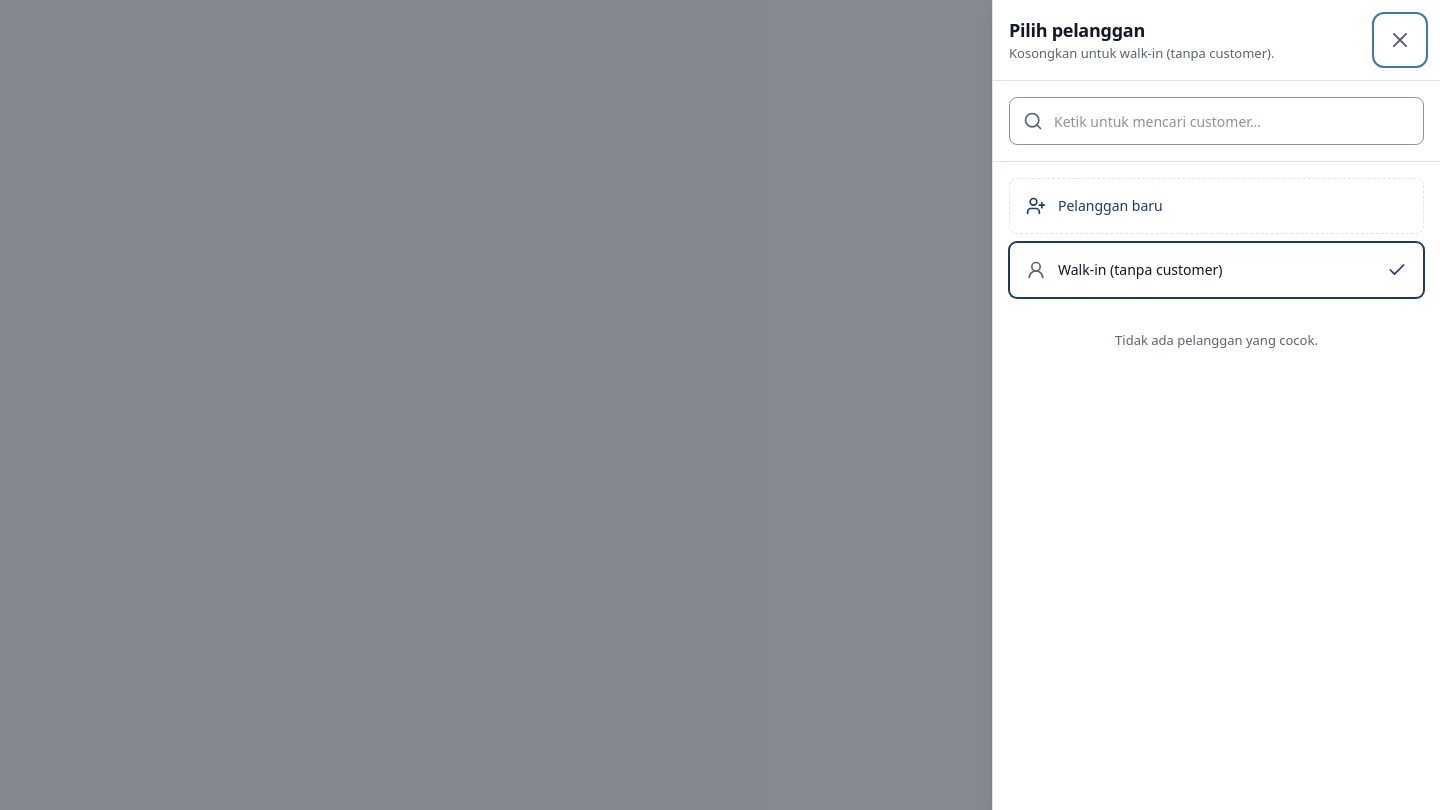
it: CustomerSheet - pelanggan baru (PR-02) › Bayar Nanti: telepon wajib, pelanggan tidak dibuat tanpa telepon
The image size is (1440, 810).
Click the button "Pelanggan baru".
click(1110, 206)  # box x1=1009 y1=178 x2=1424 y2=234
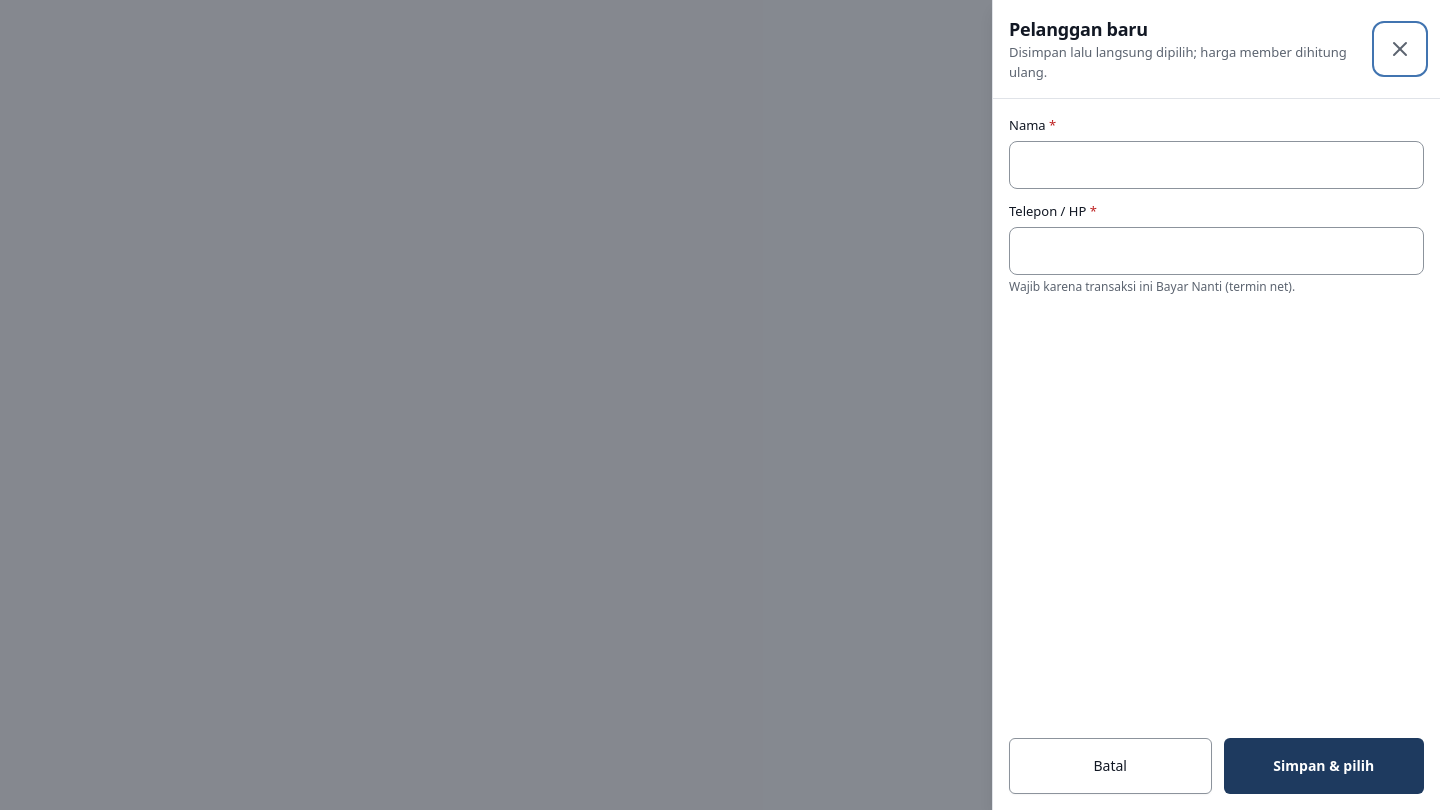
Type "Tanpa HP" into the field labelled "Nama *".
click(1216, 165); type("Tanpa HP")  # box x1=1009 y1=141 x2=1424 y2=189
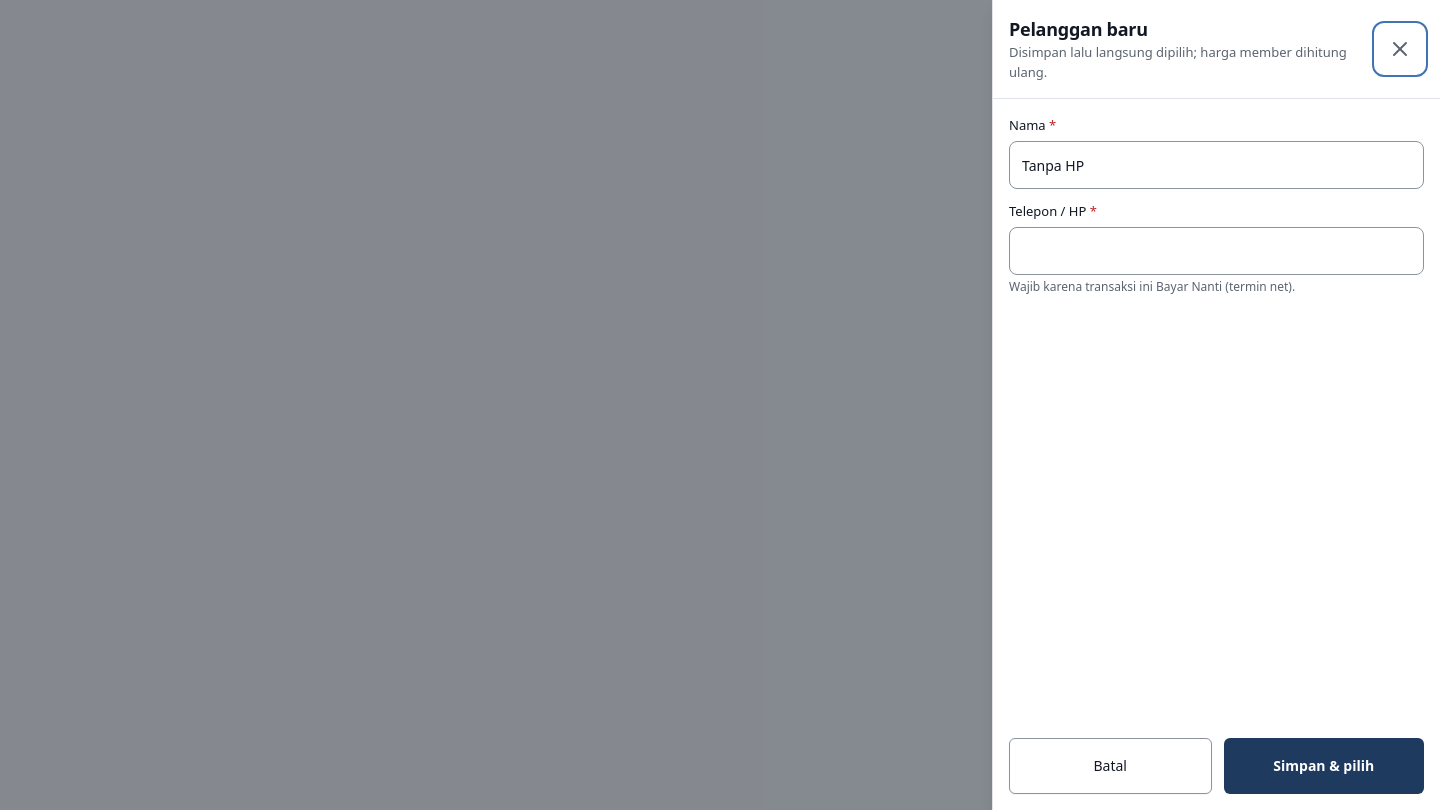
Click the button "Simpan & pilih".
click(1324, 766)  # box x1=1224 y1=738 x2=1424 y2=794
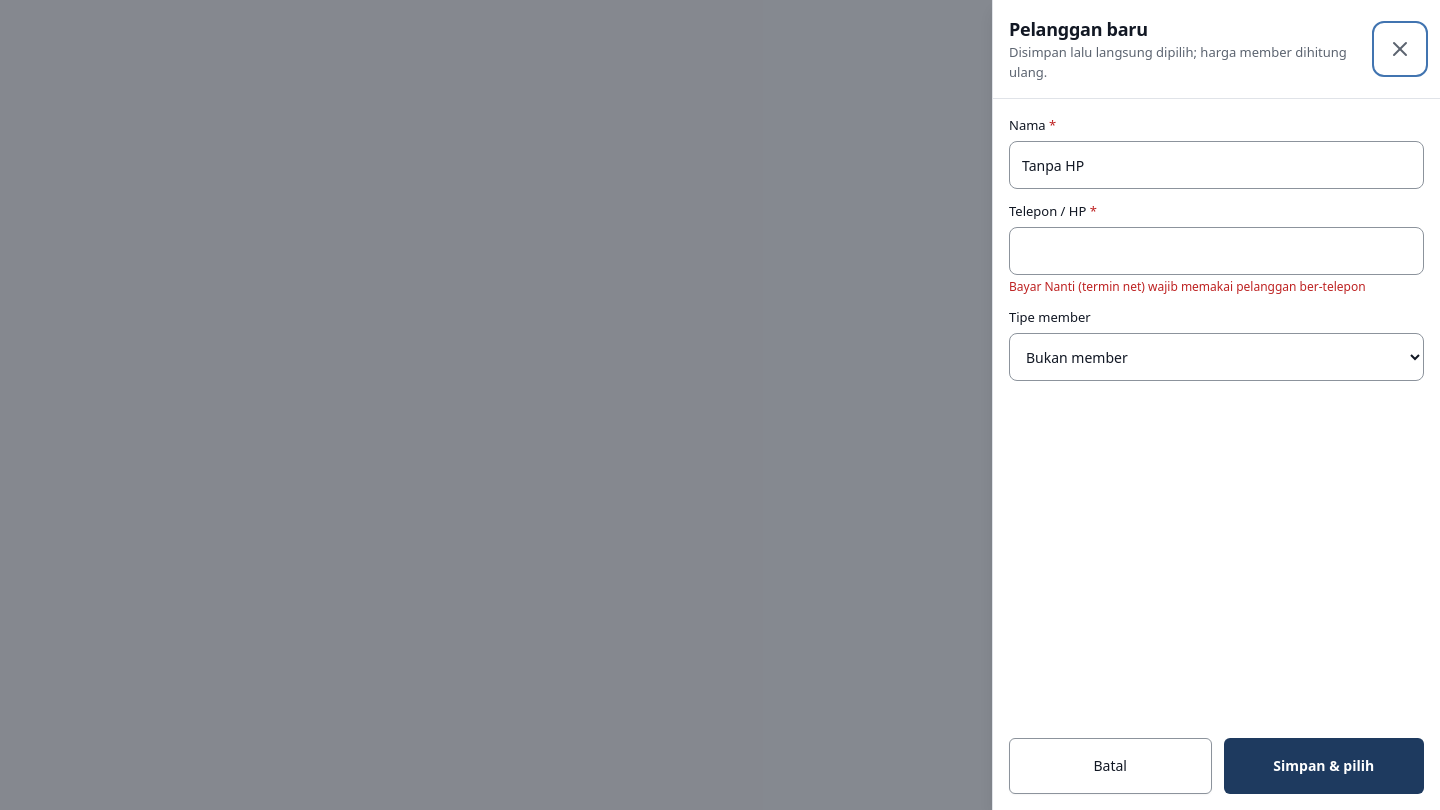
Now the text "Bayar Nanti (termin net) wajib memakai pelanggan ber-telepon" is shown, box x1=1009 y1=279 x2=1424 y2=295
